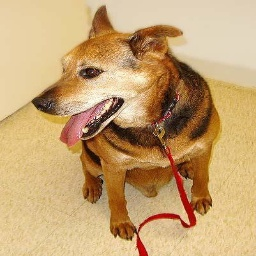dog: (32, 4, 223, 240)
